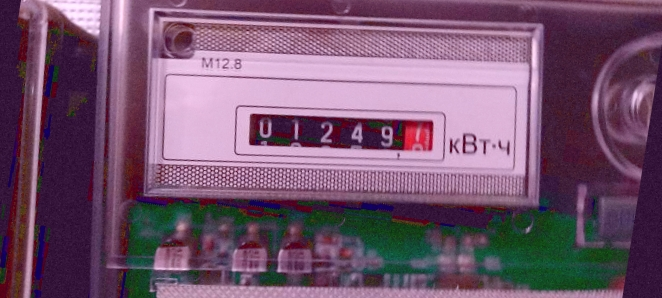0: (253, 111, 276, 140)
1: (285, 115, 304, 142)
2: (315, 118, 338, 146)
4: (347, 117, 369, 146)
7: (408, 118, 427, 144)
9: (376, 121, 398, 148)
screen: (222, 82, 463, 192)
